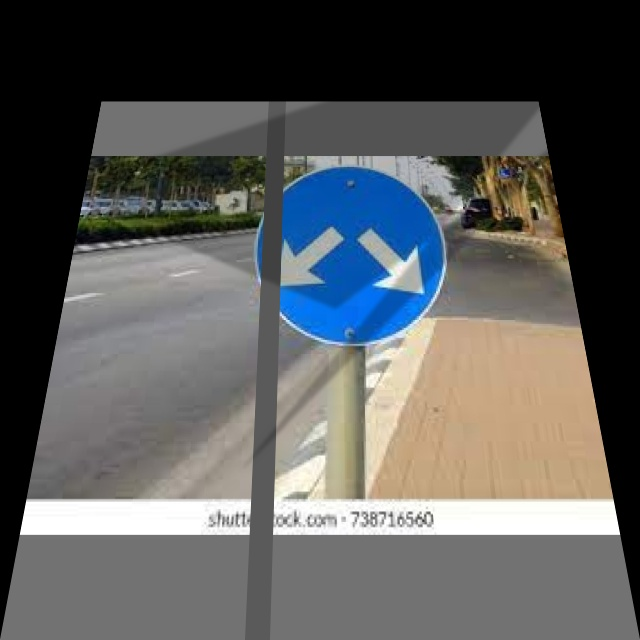Pass_Either_Side: (248, 164, 458, 346)
